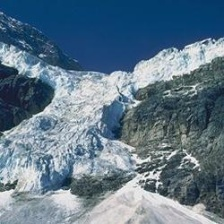neutral: (2, 4, 224, 217)
